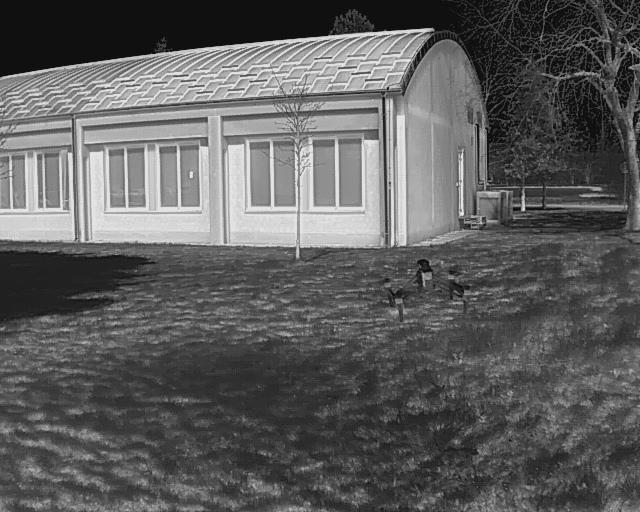drone: (362, 249, 492, 325)
